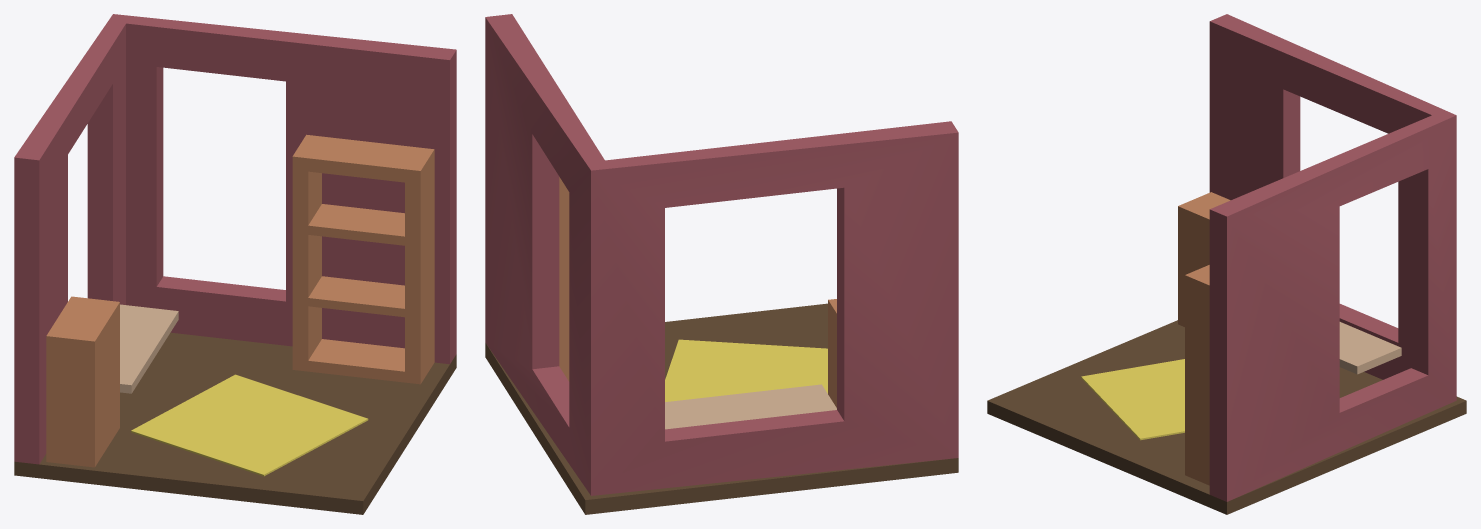
File: MDL_BlockoutRoom.fbx
The picture shows the model from 3 angles, left to right: view 1: azimuth 30°, elevation 25°; view 2: azimuth 150°, elevation 25°; view 3: azimuth 270°, elevation 25°; orthographic projection. The views are drawn at different scales.
Visible parts, largest first — view 1: MDL_BlockoutRoom; view 2: MDL_BlockoutRoom; view 3: MDL_BlockoutRoom.
Boxes of the visible parts, <box> form: MDL_BlockoutRoom: <box>14,14,456,514</box>; MDL_BlockoutRoom: <box>485,14,958,514</box>; MDL_BlockoutRoom: <box>987,14,1466,514</box>.
Bounding box in the file's own units: 726 × 498 × 726.
